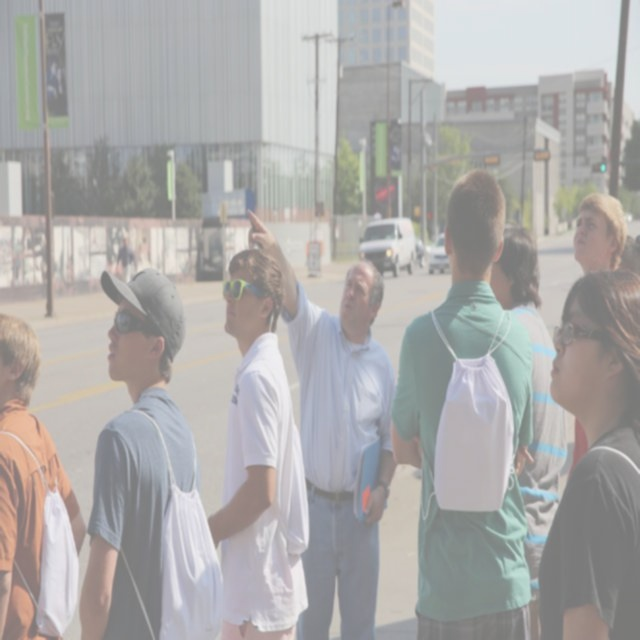pessoa: (386, 161, 544, 639), (245, 204, 400, 639), (66, 256, 228, 639), (181, 242, 317, 640), (534, 266, 640, 639), (490, 216, 570, 639), (0, 302, 89, 639), (564, 190, 628, 486), (606, 225, 640, 288), (116, 236, 138, 284), (364, 222, 398, 240)
